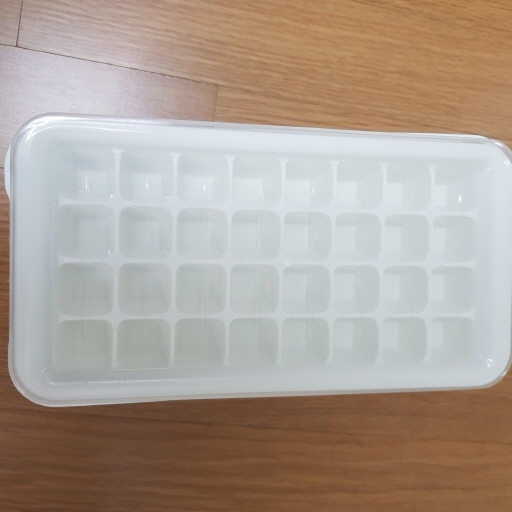Plastic_4: (7, 114, 511, 406)
